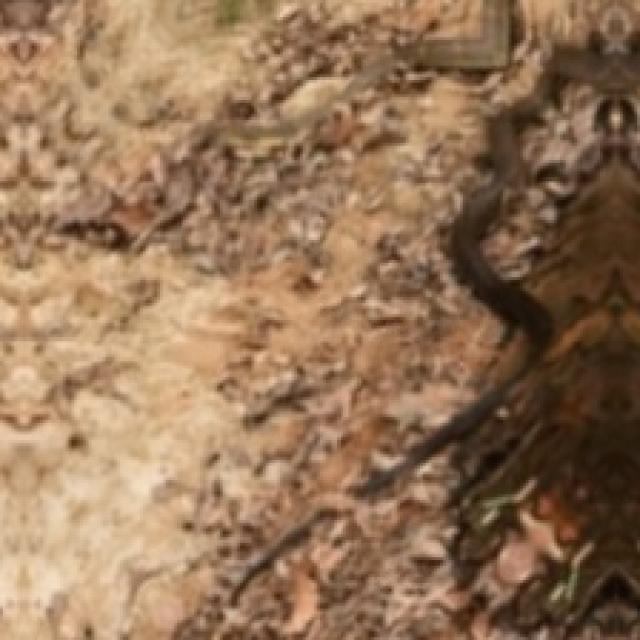king cobra: (189, 3, 637, 637)
